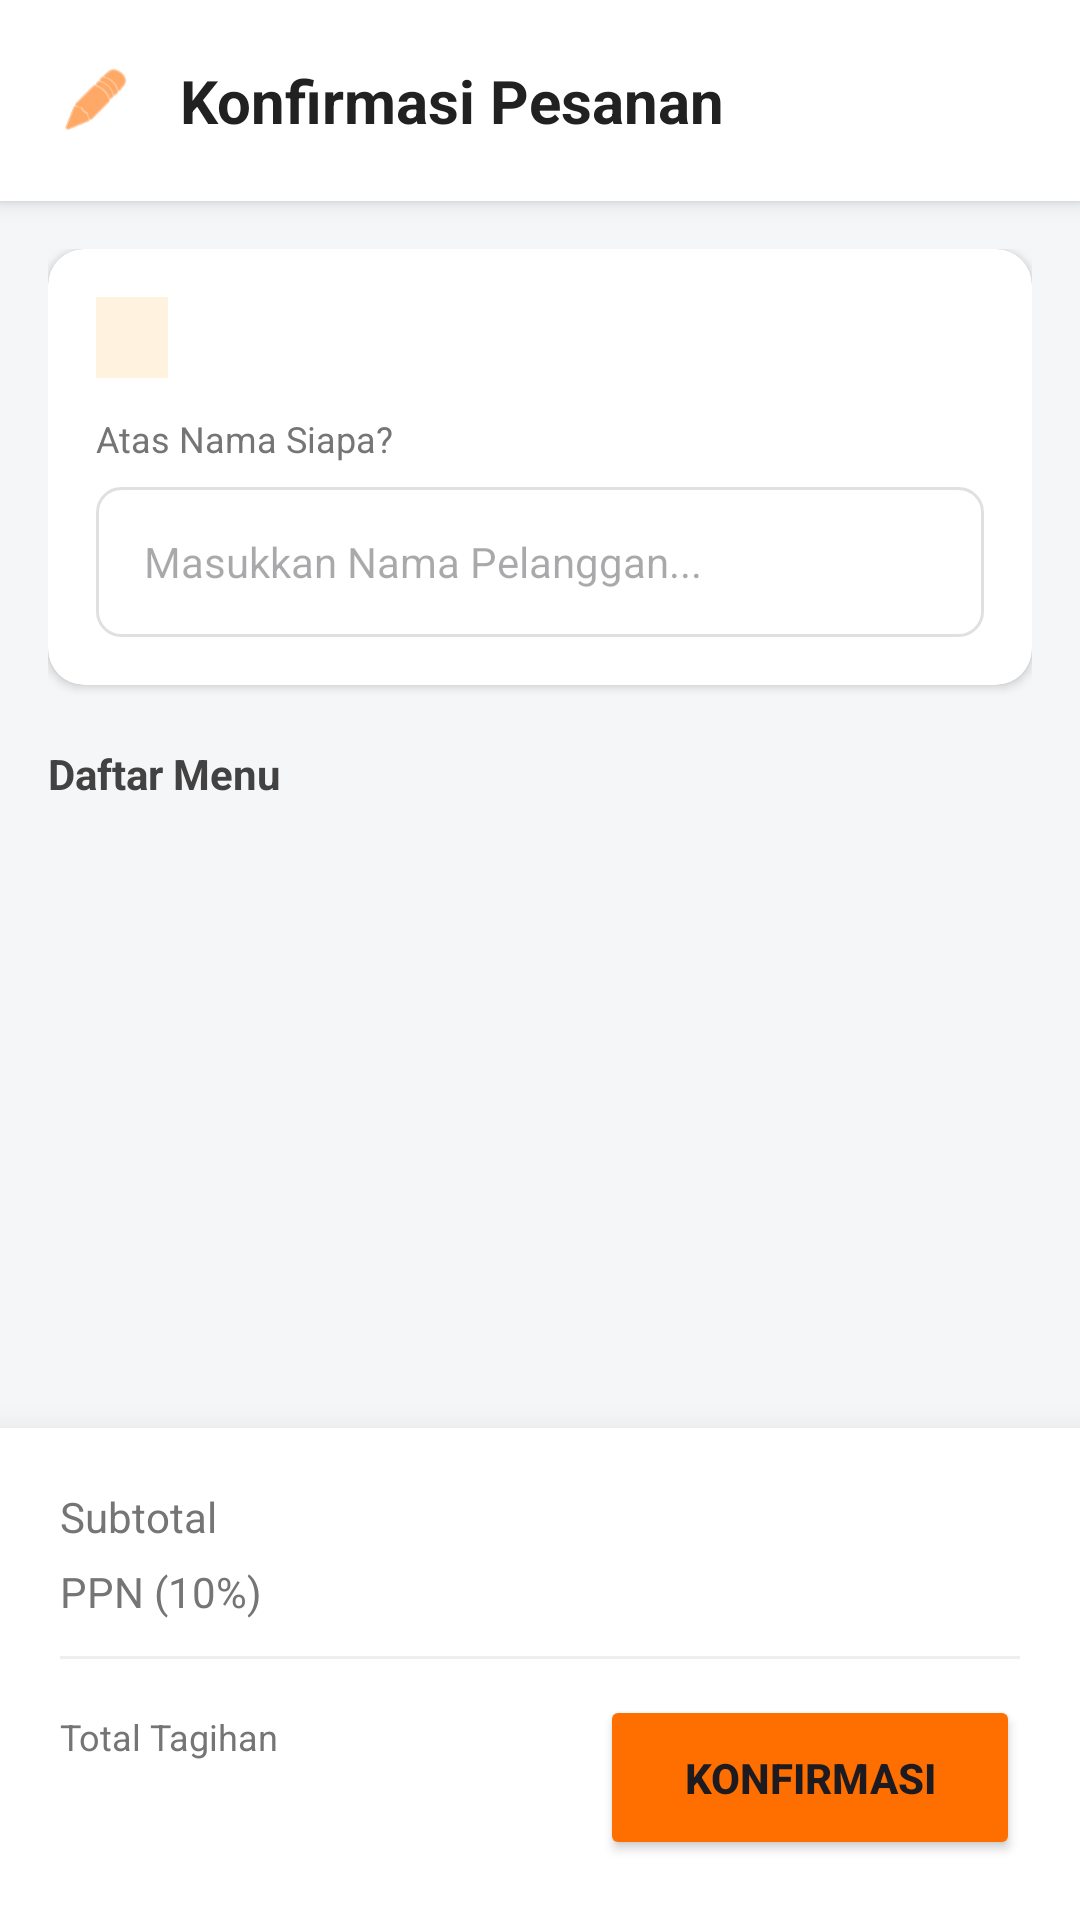

Named icons in this screenshot (1080px×1920px) and their centers, point (x, y):
edit: point (95, 99)
